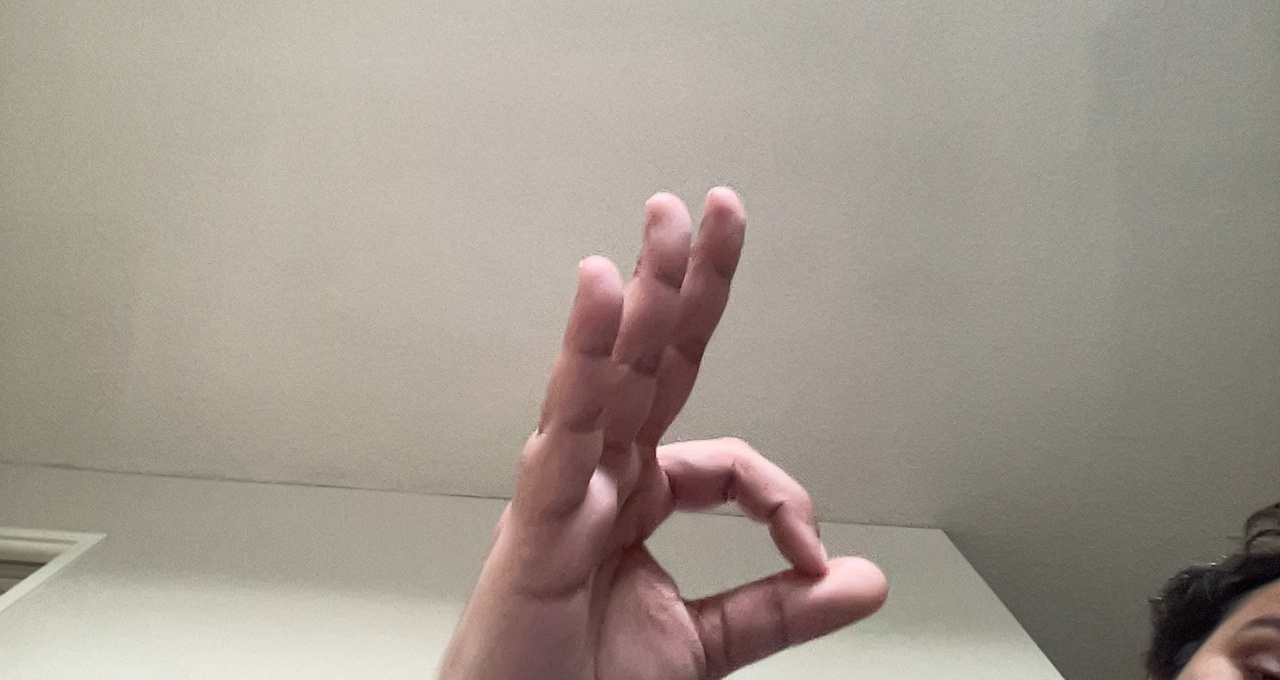ok: (510, 175, 891, 668)
